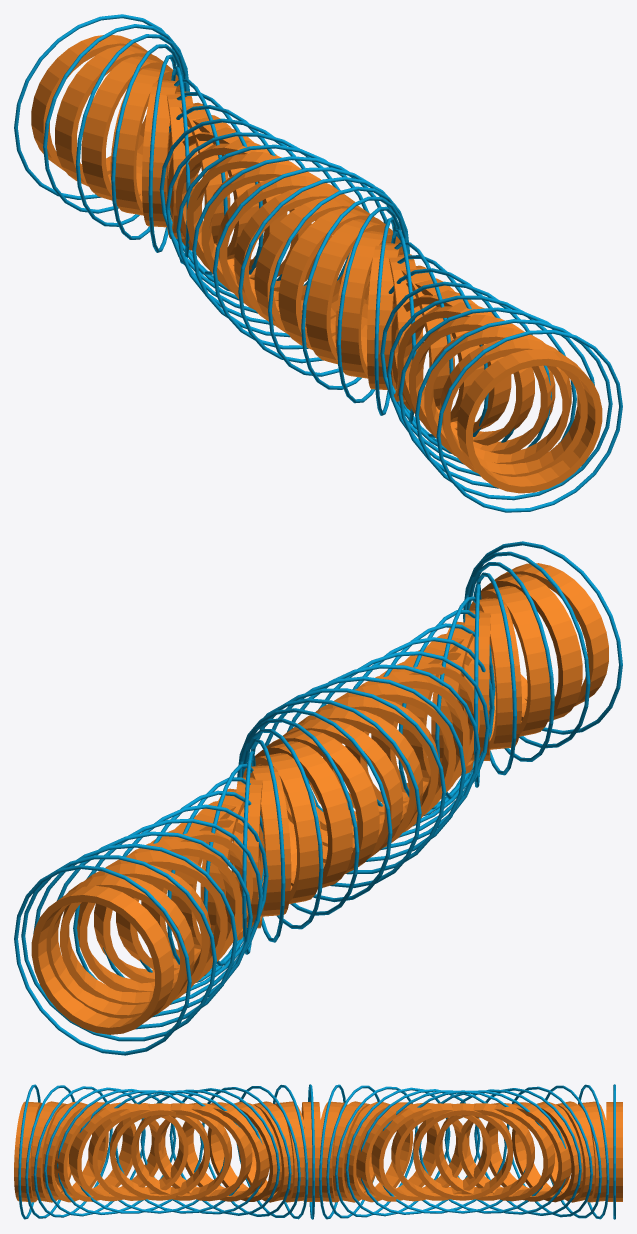
The model's file is tinker.obj.
3 renders of one model, top to bottom at view 1: azimuth 30°, elevation 25°; view 2: azimuth 150°, elevation 25°; view 3: azimuth 270°, elevation 25°, orthographic. The views are drawn at different scales.
Parts seen in each view (by area): view 1: group_0_16089887, group_0_40919; view 2: group_0_16089887, group_0_40919; view 3: group_0_16089887, group_0_40919.
Part boxes in pixels (x1,y1,x2,y2): group_0_16089887: (31,35,602,493); group_0_40919: (14,14,622,512); group_0_16089887: (31,563,608,1034); group_0_40919: (14,541,622,1055); group_0_16089887: (14,1101,622,1202); group_0_40919: (18,1084,615,1219).
Bounding box in the file's own units: 81.6 × 81.6 × 366.
